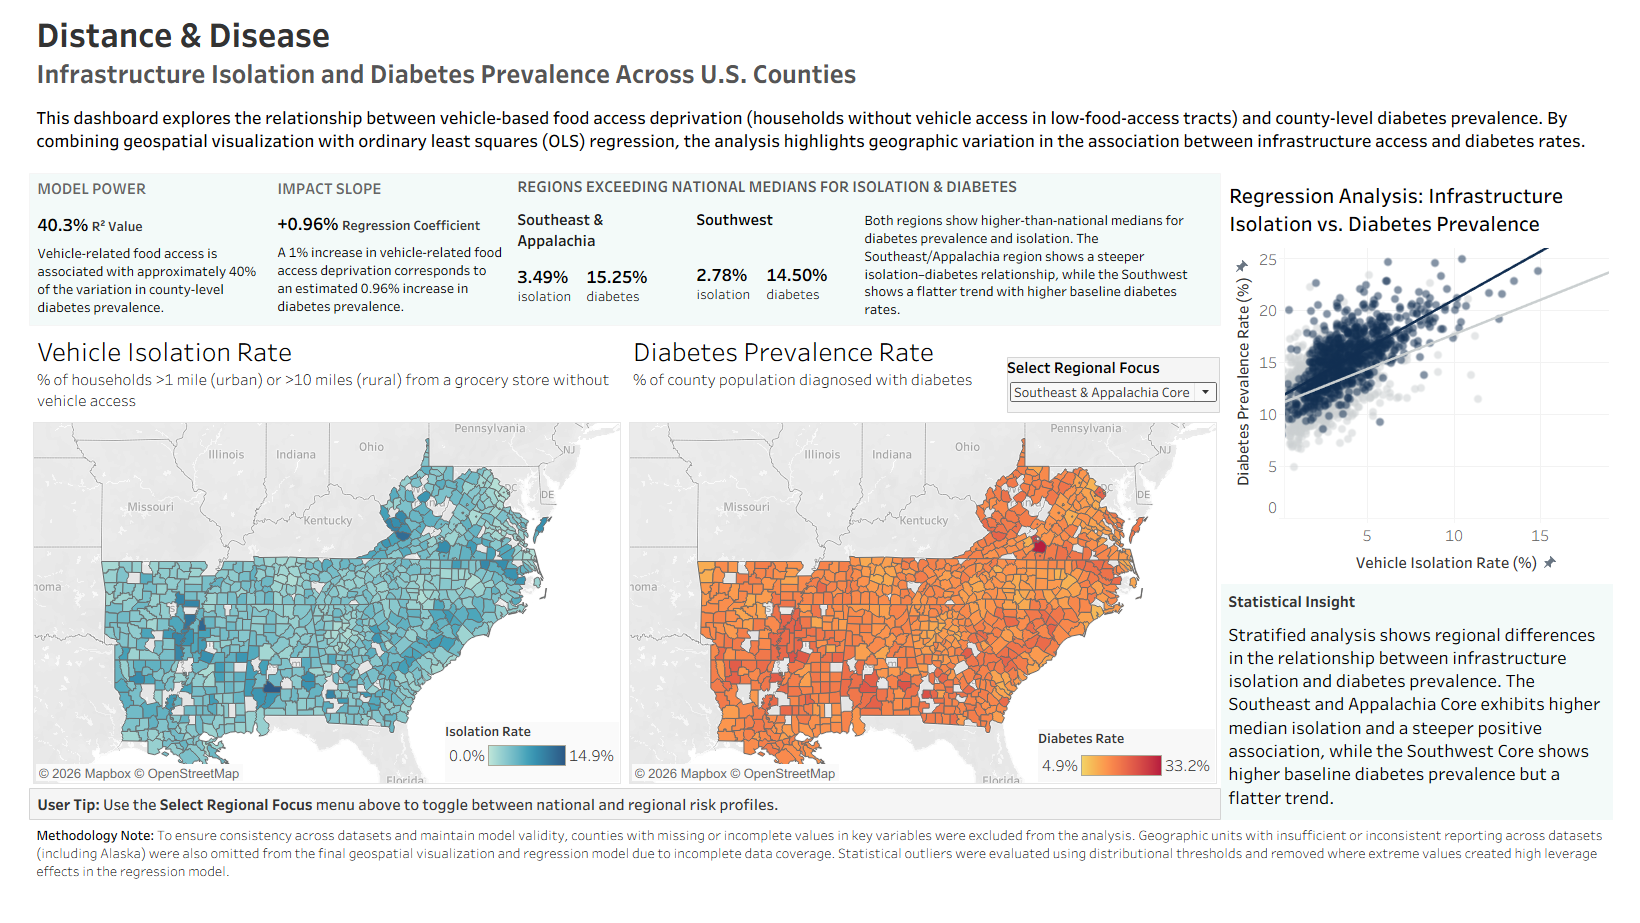

What the dashboard file says about the page in this screenshot:
{"tool":"tableau","page":{"name":"Distance & Disease Dashboard","canvas":[1600,900],"ordinal":0},"visuals":[{"type":"text","box":[8,8,1584,100]},{"type":"text","box":[8,108,1584,72]},{"type":"worksheet","title":"Regression Analysis","mark":"Circle","rows":["diabetes_rate"],"cols":["pct_no_car_low_access"],"box":[1200,180,392,411]},{"type":"text","box":[9,181,240,34.8]},{"type":"text","box":[249,181,240,33]},{"type":"text","box":[489,181,710,25]},{"type":"text","box":[489,211.9,146.4,55.2]},{"type":"text","box":[667.7,211.9,168.7,53.2]},{"type":"text","box":[836.4,211.9,362.6,120.1]},{"type":"text","box":[249,214,240,32]},{"type":"text","box":[9,215.8,240,31]},{"type":"text","box":[249,246,240,80]},{"type":"text","box":[9,246.8,240,85.2]},{"type":"text","box":[667.7,265.2,70.7,66.8]},{"type":"text","box":[738.4,265.2,98,66.8]},{"type":"text","box":[489,267.1,68.7,64.9]},{"type":"text","box":[557.7,267.1,77.7,64.9]},{"type":"worksheet","title":"Vehicle Isolation Map","mark":"Multipolygon","box":[8,333,596,462]},{"type":"worksheet","title":"Diabetes Prevalence Map","mark":"Multipolygon","box":[604,333,596,462]},{"type":"parameter","param":"[Parameters].[Parameter 1]","box":[986,364,213,56]},{"type":"text","box":[1200,591,392,32]},{"type":"text","box":[1200,623,392,204]},{"type":"legend","title":"Vehicle Isolation Map","param":"[federated.0u0hfb40xxzmzu1fmzhr60ztdpr7].[sum:Calculation_0587147910811648:qk]","box":[424,729,174,60]},{"type":"legend","title":"Diabetes Prevalence Map","param":"[federated.0u0hfb40xxzmzu1fmzhr60ztdpr7].[sum:Calculation_0587147912527873:qk]","box":[1017,736,177,53]},{"type":"text","box":[9,796,1190,30]},{"type":"text","box":[8,827,1584,65]}]}

Visuals, with their boxes in screenshot pixels (x1, y1, x2, y2), scaled from the page's 1600x900 canvas onto the 1640x923 screenshot:
text: crop(8, 8, 1632, 111)
text: crop(8, 111, 1632, 185)
"Regression Analysis" worksheet (Circle marks): crop(1230, 185, 1632, 606)
text: crop(9, 186, 255, 221)
text: crop(255, 186, 501, 219)
text: crop(501, 186, 1229, 211)
text: crop(501, 217, 651, 274)
text: crop(684, 217, 857, 272)
text: crop(857, 217, 1229, 340)
text: crop(255, 219, 501, 252)
text: crop(9, 221, 255, 253)
text: crop(255, 252, 501, 334)
text: crop(9, 253, 255, 340)
text: crop(684, 272, 757, 340)
text: crop(757, 272, 857, 340)
text: crop(501, 274, 572, 340)
text: crop(572, 274, 651, 340)
"Vehicle Isolation Map" worksheet (Multipolygon marks): crop(8, 342, 619, 815)
"Diabetes Prevalence Map" worksheet (Multipolygon marks): crop(619, 342, 1230, 815)
parameter: crop(1011, 373, 1229, 431)
text: crop(1230, 606, 1632, 639)
text: crop(1230, 639, 1632, 848)
"Vehicle Isolation Map" legend: crop(435, 748, 613, 809)
"Diabetes Prevalence Map" legend: crop(1042, 755, 1224, 809)
text: crop(9, 816, 1229, 847)
text: crop(8, 848, 1632, 915)
